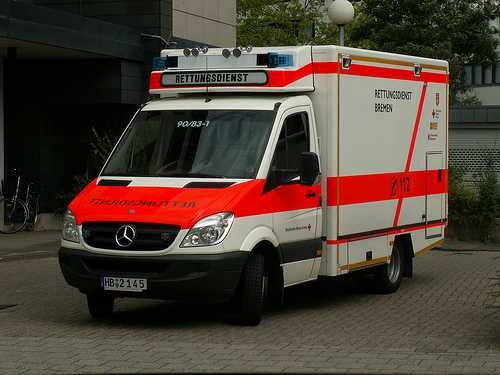Ambulance: (68, 37, 452, 329)
